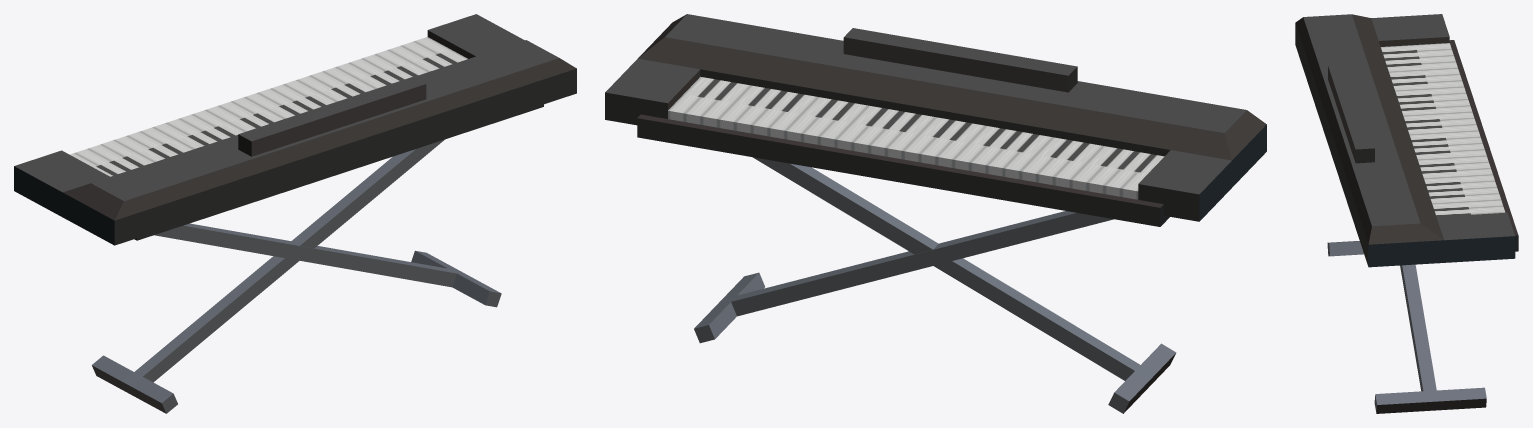
3 renders of one model, left to right at view 1: azimuth 30°, elevation 25°; view 2: azimuth 150°, elevation 25°; view 3: azimuth 270°, elevation 25°, orthographic. The views are drawn at different scales.
Parts seen in each view (by area): view 1: Mesh_0.003; view 2: Mesh_0.003; view 3: Mesh_0.003.
Part boxes in pixels (x1,y1,x2,y2): Mesh_0.003: [14, 14, 576, 413]; Mesh_0.003: [605, 14, 1266, 413]; Mesh_0.003: [1295, 14, 1518, 413].
Bounding box in the file's own units: 6.74 × 3.11 × 2.75.
1 material, 1 textured.
